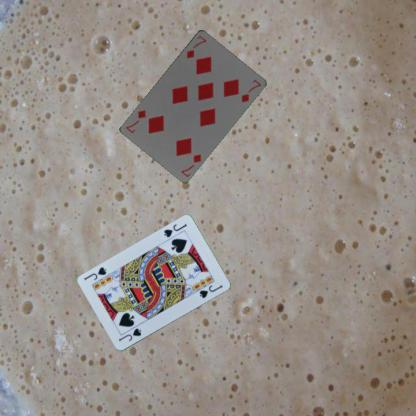7d: (178, 151, 203, 178), (184, 32, 207, 60)
Js: (161, 221, 188, 239), (116, 326, 142, 342)
